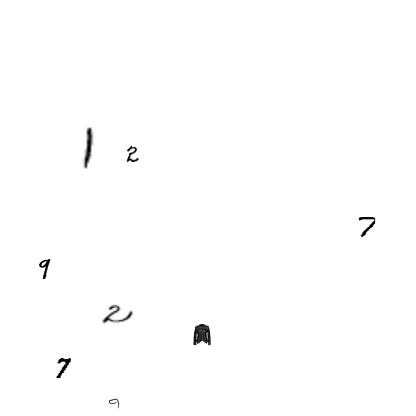1: (59, 118, 115, 174)
2: (95, 293, 137, 335), (121, 143, 143, 165)
7: (49, 351, 77, 379), (353, 210, 381, 238)
9: (31, 253, 59, 281), (107, 395, 121, 409)
Coat: (191, 324, 213, 346)
